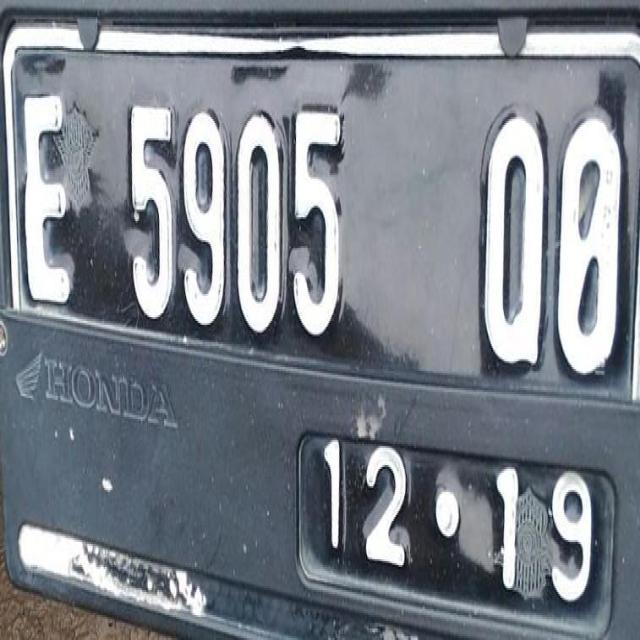0: (234, 82, 288, 350)
5: (288, 76, 349, 337), (121, 94, 179, 334)
9: (178, 84, 232, 332)
E: (19, 80, 82, 308)
O: (552, 100, 622, 379)
Q: (478, 95, 550, 376)
